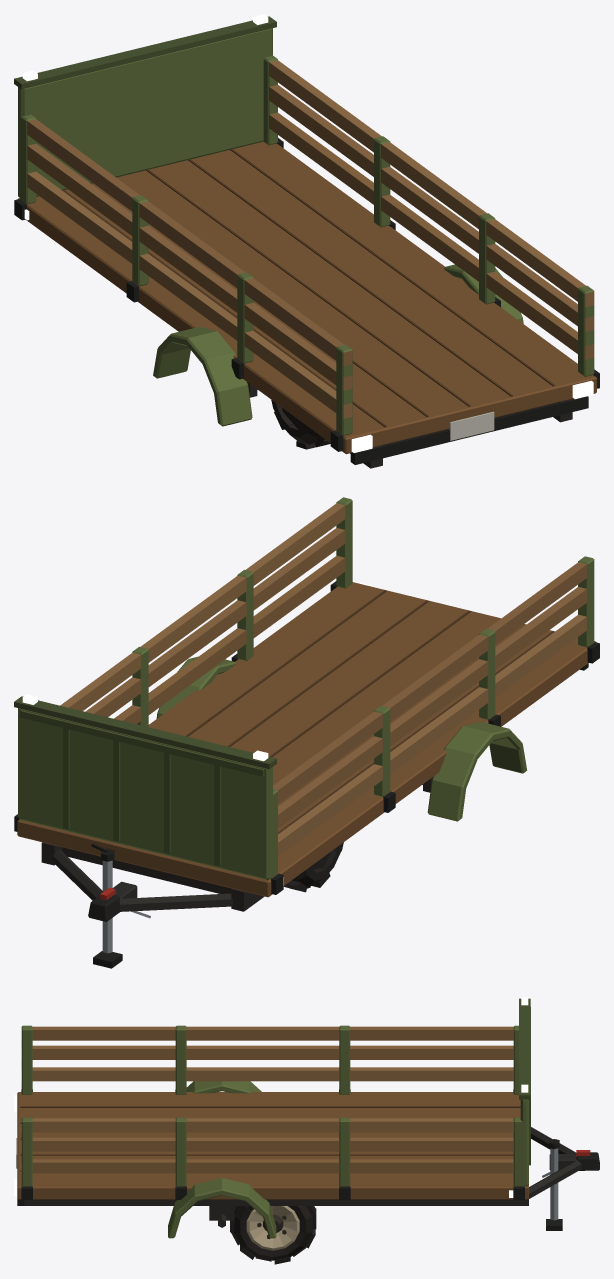
The model's file is RanchTrailer_Rustbucket.glb.
3 views of the same model, one above another, from view 1: azimuth 30°, elevation 25°; view 2: azimuth 150°, elevation 25°; view 3: azimuth 270°, elevation 25° (orthographic). The views are drawn at different scales.
Visible parts, largest first — view 1: Bed, Body, Wheel, Lights; view 2: Bed, Body, Hitch, Wheel; view 3: Bed, Body, Wheel, Hitch.
Part boxes in pixels (bbox=[...]): Bed: bbox=[14, 16, 599, 454]; Body: bbox=[153, 264, 588, 468]; Wheel: bbox=[271, 400, 330, 449]; Lights: bbox=[22, 14, 593, 452]; Bed: bbox=[14, 497, 599, 897]; Body: bbox=[41, 656, 588, 911]; Hitch: bbox=[52, 843, 232, 968]; Wheel: bbox=[284, 842, 343, 892]; Bed: bbox=[17, 998, 530, 1199]; Body: bbox=[16, 1081, 528, 1238]; Wheel: bbox=[230, 1206, 316, 1264]; Hitch: bbox=[529, 1127, 599, 1230].
Bounding box in the file's own units: 9.79 × 8.51 × 20.84.
